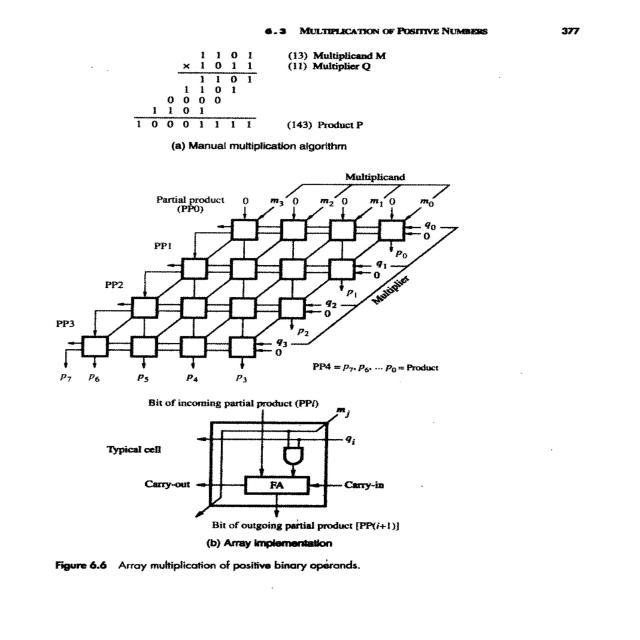diagram: (26, 19, 640, 593)
